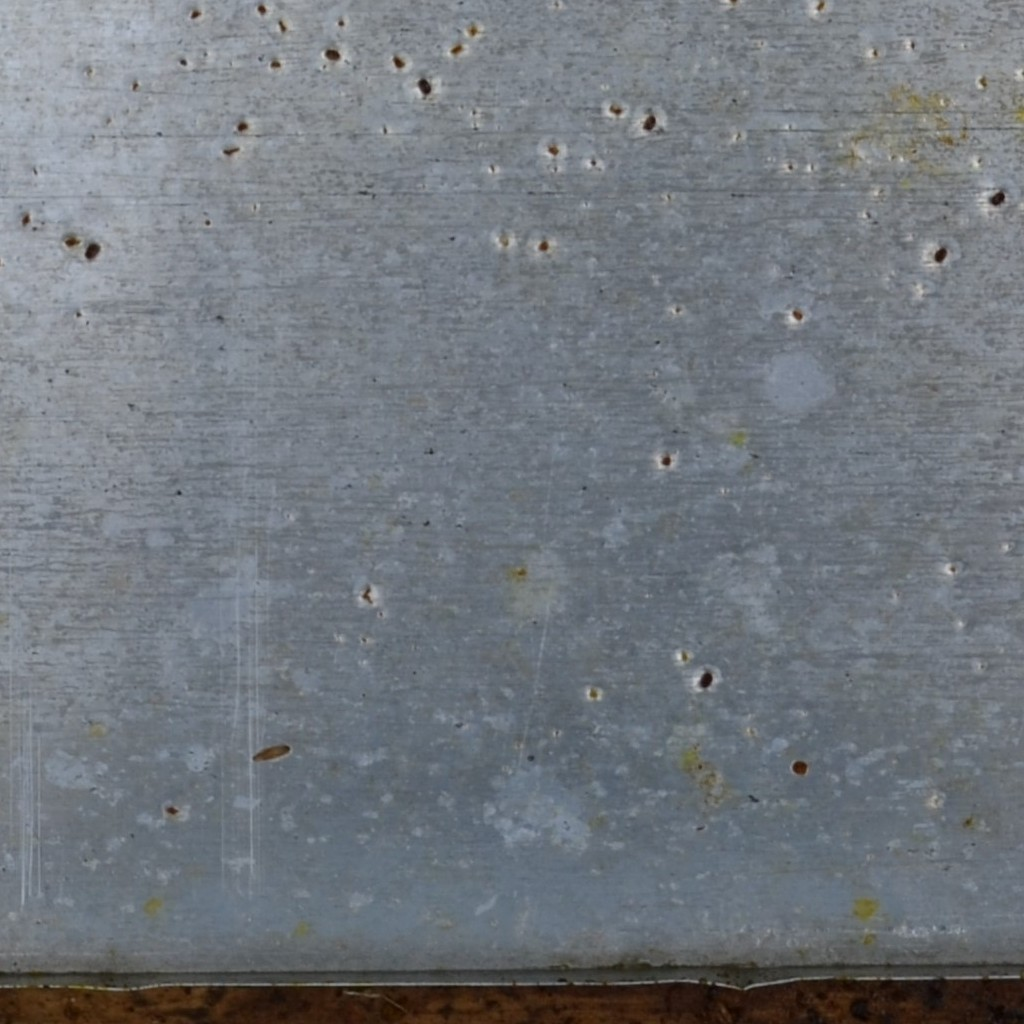varroa: (79, 237, 103, 266), (930, 239, 951, 267), (697, 665, 718, 692), (789, 754, 810, 778), (987, 186, 1007, 210), (639, 108, 658, 133), (416, 73, 435, 96)
